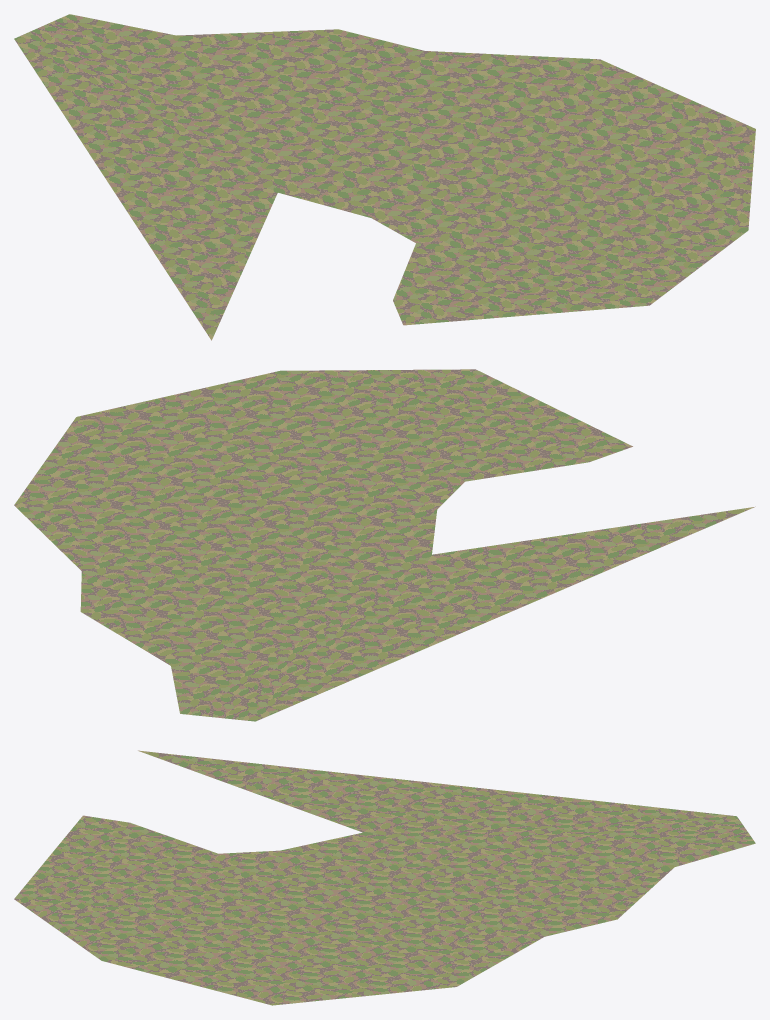
Rendered from kd_stage_136599_16_15.glb.
3 renders of one model, top to bottom at view 1: azimuth 30°, elevation 25°; view 2: azimuth 150°, elevation 25°; view 3: azimuth 270°, elevation 25°, orthographic. The views are drawn at different scales.
Visible parts, largest first — view 1: kd_stage_136599_16_15; view 2: kd_stage_136599_16_15; view 3: kd_stage_136599_16_15.
Part boxes in pixels (x1=…): kd_stage_136599_16_15: x1=14, y1=14, x2=755, y2=340; kd_stage_136599_16_15: x1=14, y1=369, x2=755, y2=721; kd_stage_136599_16_15: x1=14, y1=750, x2=755, y2=1005.
Bounding box in the file's own units: 47.68 × 4.29e-05 × 58.6.
1 material, 1 textured.
